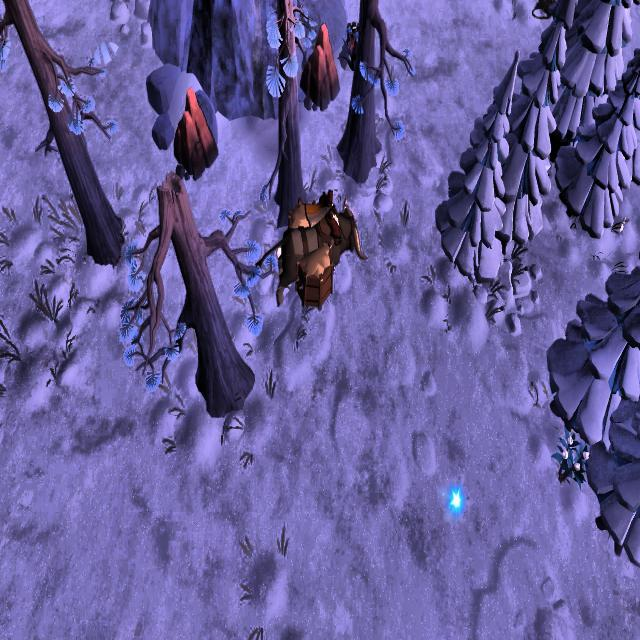fiber_t4: (555, 428, 589, 492)
ore_t5: (346, 17, 364, 64)
rock_t5: (170, 88, 221, 174), (302, 23, 341, 113)
